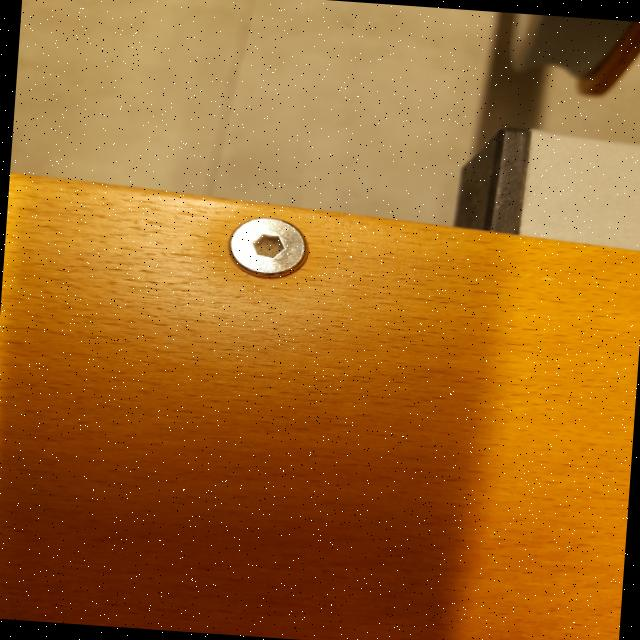Hex Socket Allen: (227, 214, 312, 281)
